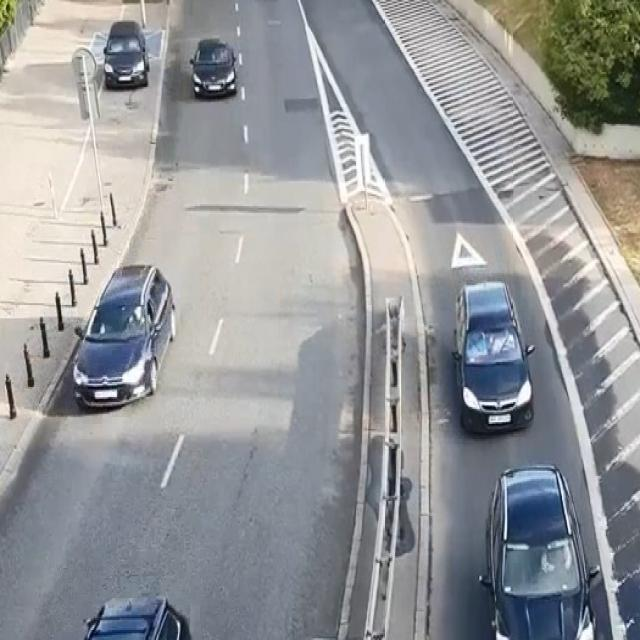car: (481, 466, 594, 639), (72, 265, 175, 408), (454, 282, 534, 433), (85, 596, 190, 640), (104, 21, 149, 88), (190, 39, 236, 97)
